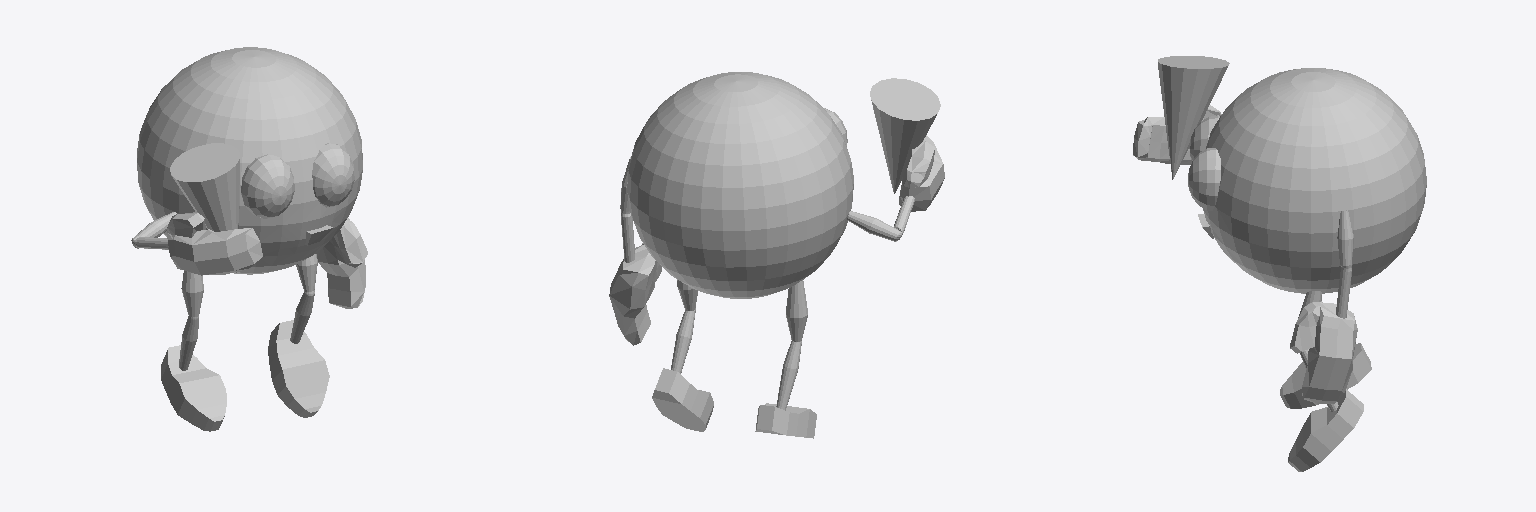
The model's file is walk2run_000011.obj.
3 renders of one model, left to right at view 1: azimuth 30°, elevation 25°; view 2: azimuth 150°, elevation 25°; view 3: azimuth 270°, elevation 25°, orthographic.
Visible parts, largest first — view 1: Rusko_Sphere; view 2: Rusko_Sphere; view 3: Rusko_Sphere.
Part boxes in pixels (x1,y1,x2,y2): Rusko_Sphere: (131,47,367,431); Rusko_Sphere: (609,72,944,438); Rusko_Sphere: (1133,56,1426,471).
Bounding box in the file's own units: 5.23 × 7.11 × 5.18.